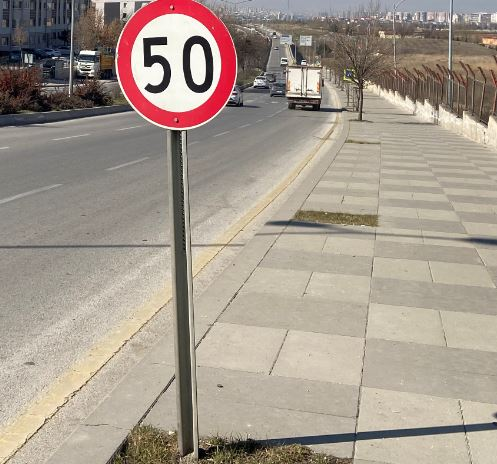50 Km Hiz Siniri: (114, 1, 241, 133)
